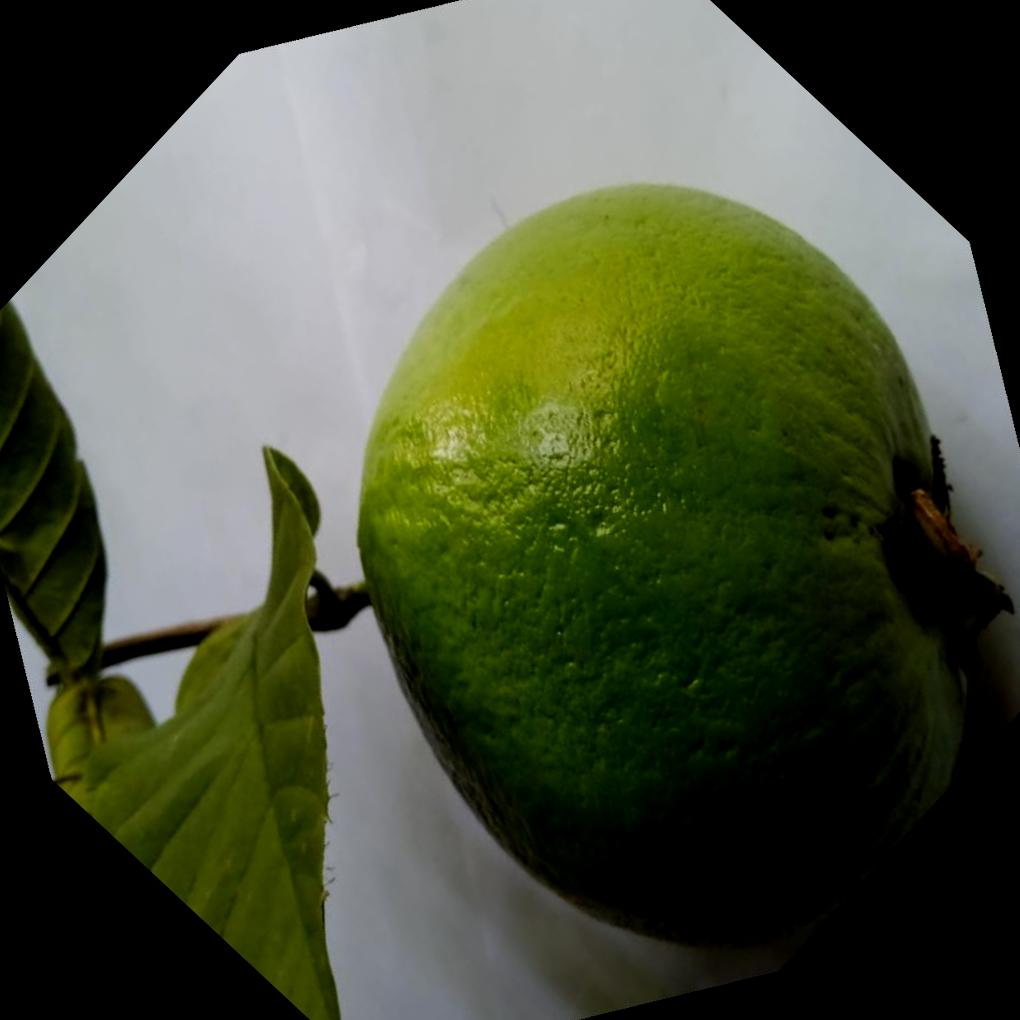FreshGuava: (354, 180, 1010, 952)
